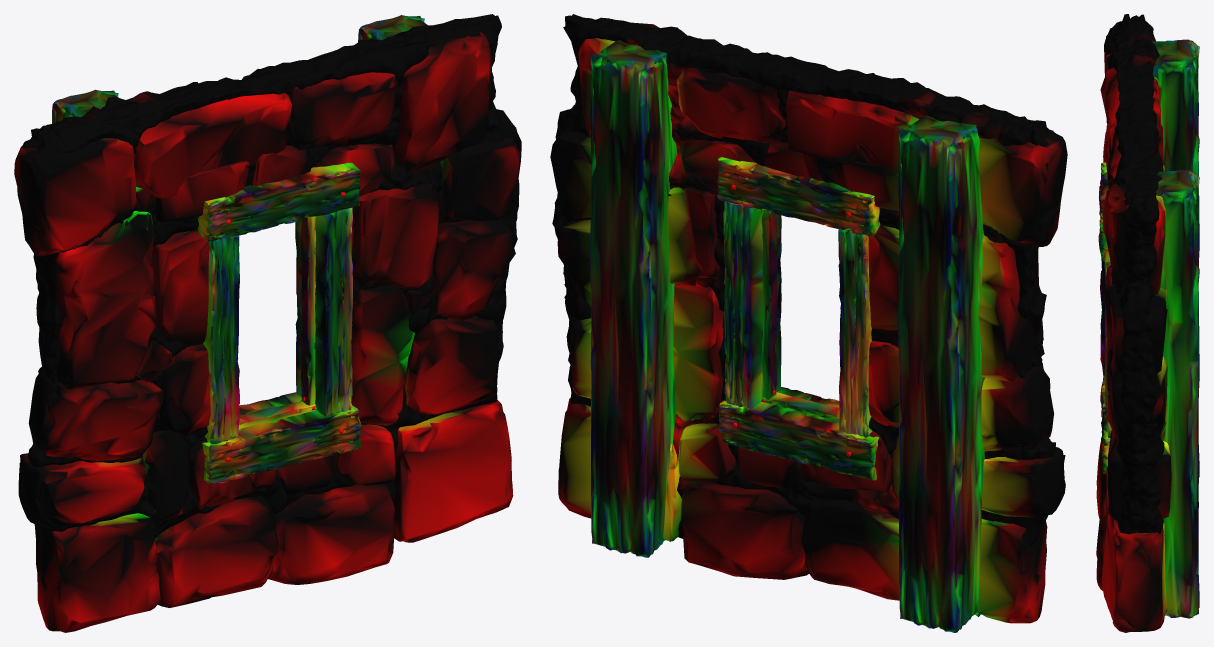
File: SM_Stone_WallWindow.fbx
3 views of the same model, side by side, from view 1: azimuth 30°, elevation 25°; view 2: azimuth 150°, elevation 25°; view 3: azimuth 270°, elevation 25° (orthographic). The views are drawn at different scales.
Visible parts, largest first — view 1: SM_Stone_WallWindow_LOD0; view 2: SM_Stone_WallWindow_LOD0; view 3: SM_Stone_WallWindow_LOD0.
Part boxes in pixels (bbox=[...]): SM_Stone_WallWindow_LOD0: bbox=[14, 14, 521, 632]; SM_Stone_WallWindow_LOD0: bbox=[550, 14, 1067, 632]; SM_Stone_WallWindow_LOD0: bbox=[1096, 14, 1199, 632].
Bounding box in the file's own units: 326 × 67.17 × 321.
